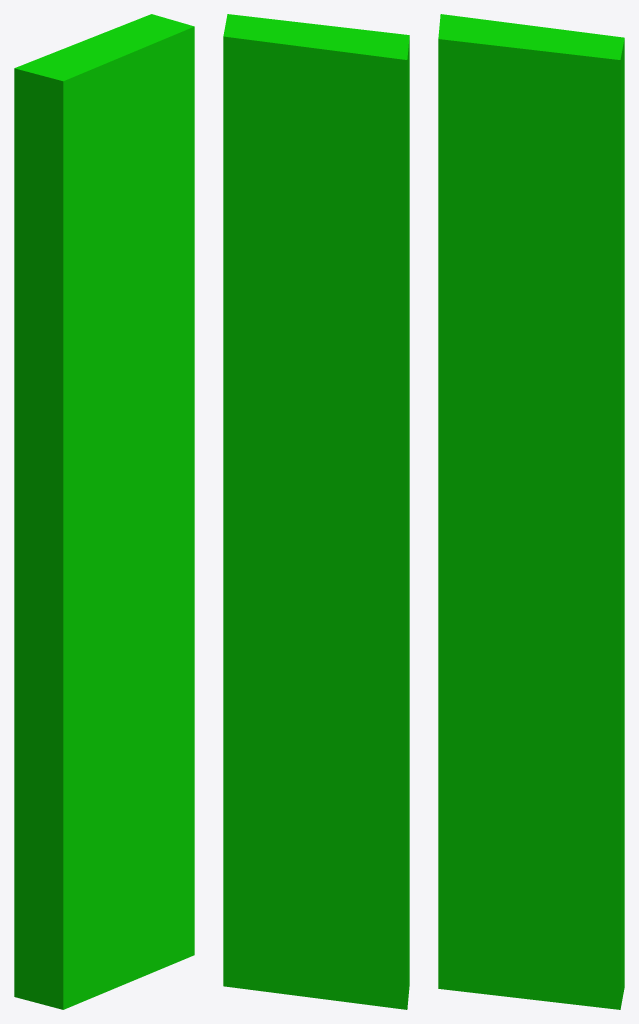
The picture shows the model from 3 angles, left to right: view 1: azimuth 30°, elevation 25°; view 2: azimuth 150°, elevation 25°; view 3: azimuth 330°, elevation 25°; orthographic projection. The views are drawn at different scales.
Visible parts, largest first — view 1: Plane.020; view 2: Plane.020; view 3: Plane.020.
Boxes of the visible parts, left/top/right/bottom form: Plane.020: left=14, top=14, right=194, bottom=1009; Plane.020: left=223, top=14, right=409, bottom=1009; Plane.020: left=438, top=14, right=624, bottom=1009.
Bounding box in the file's own units: 570 × 2839 × 260.
